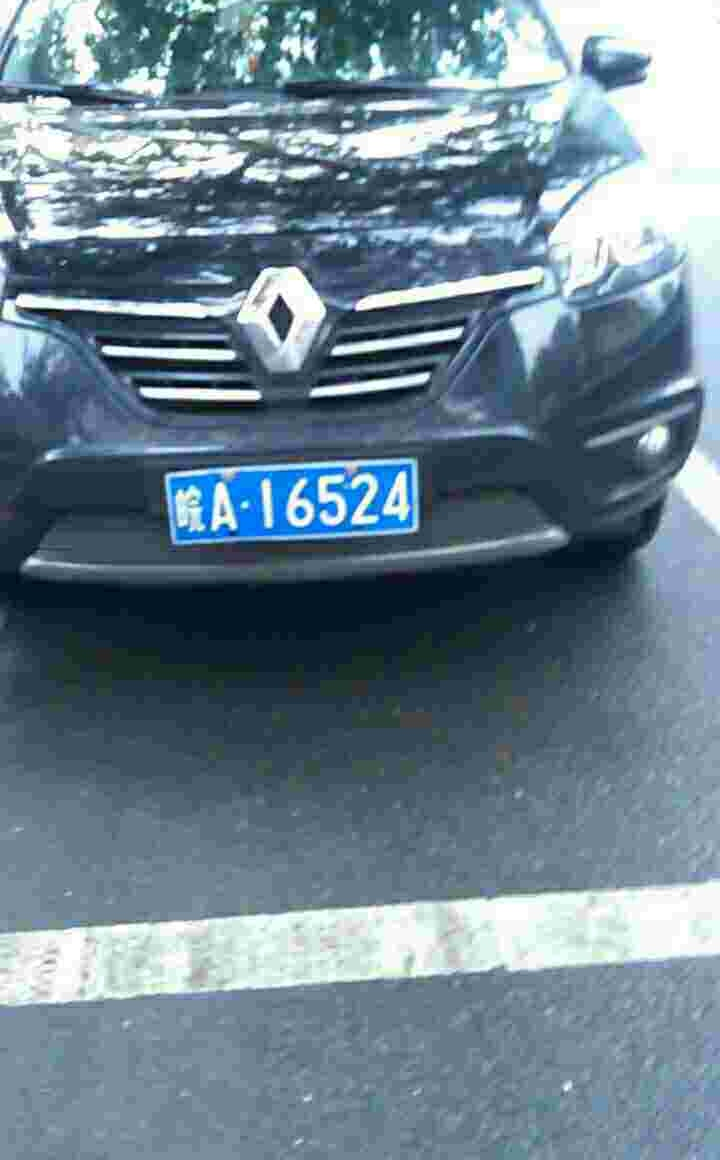plate: (171, 455, 424, 549)
